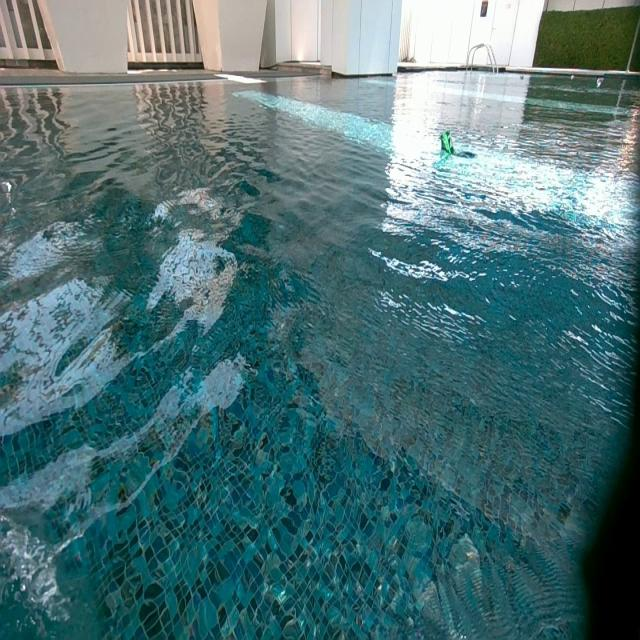Cans: (440, 131, 456, 154), (596, 76, 605, 85), (570, 74, 576, 82), (520, 75, 524, 80)
